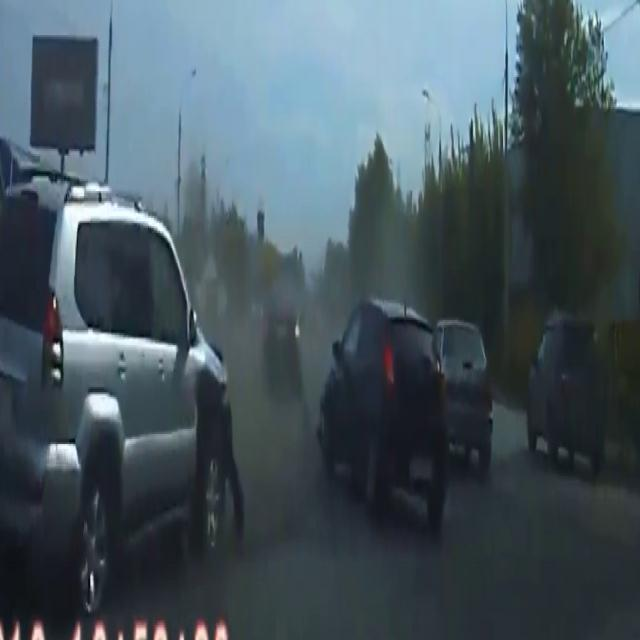accident: (12, 102, 263, 584), (303, 264, 472, 561)
